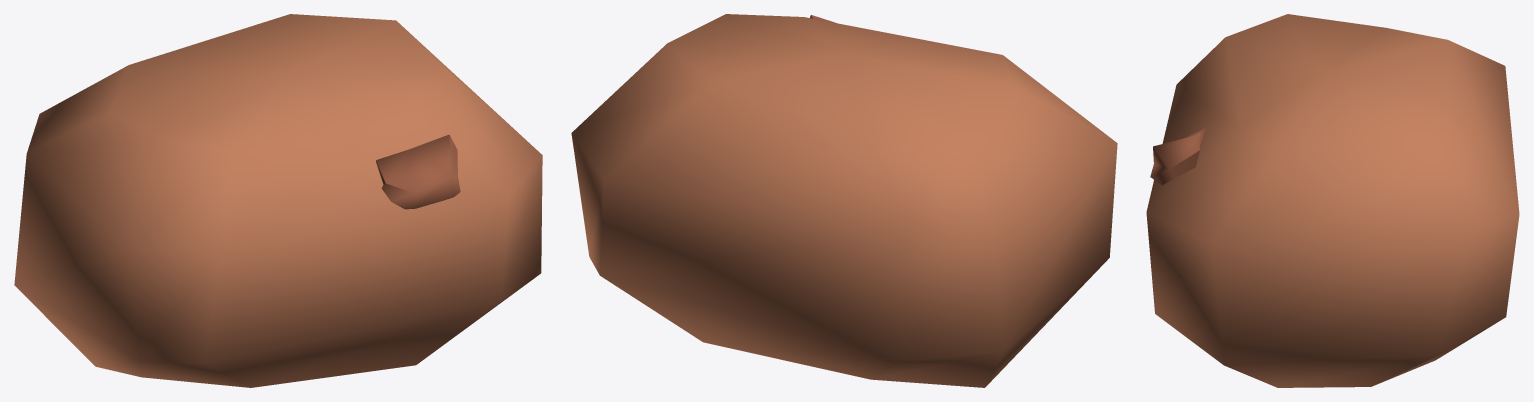
The model's file is rock_clay.glb.
3 views of the same model, side by side, from view 1: azimuth 30°, elevation 25°; view 2: azimuth 150°, elevation 25°; view 3: azimuth 270°, elevation 25° (orthographic). The views are drawn at different scales.
Parts seen in each view (by area): view 1: rock_clay; view 2: rock_clay; view 3: rock_clay.
Boxes of the visible parts, bbox=[...] form: rock_clay: bbox=[14, 14, 542, 387]; rock_clay: bbox=[571, 14, 1117, 387]; rock_clay: bbox=[1146, 14, 1519, 387].
Size of the model in its own units: 0.0914 by 0.0566 by 0.0738.
